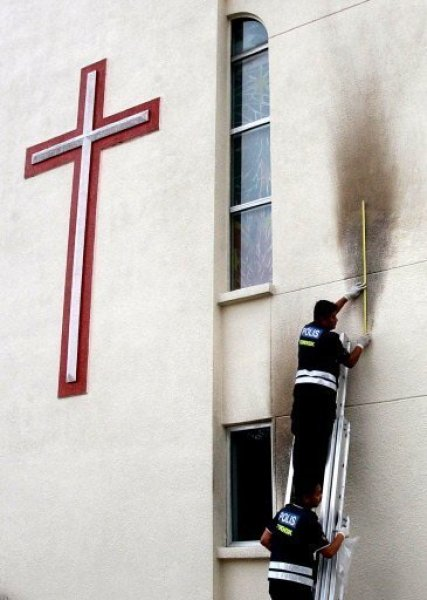Church: (3, 56, 162, 403)
